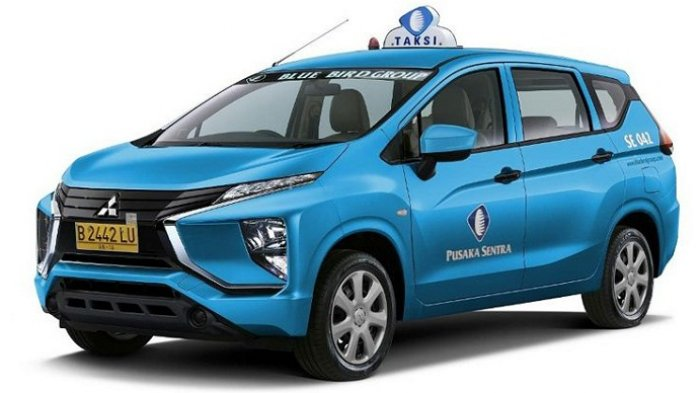plate: (75, 224, 139, 255)
